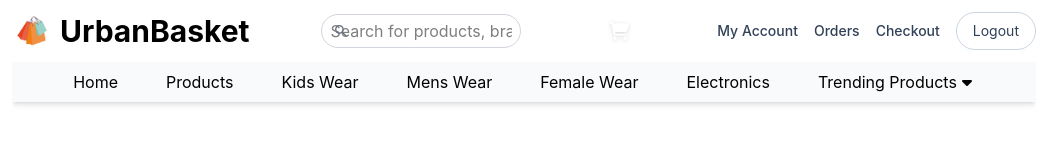
Scenario: Navbar › clears auth data and updates state on logout
Click the button "Logout" at (996, 31), box [956,12,1036,50]
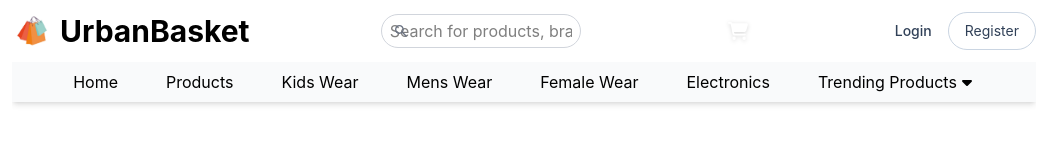
Now the button "Logout" is gone
Now the link "Login" is shown, box [895,21,932,41]
